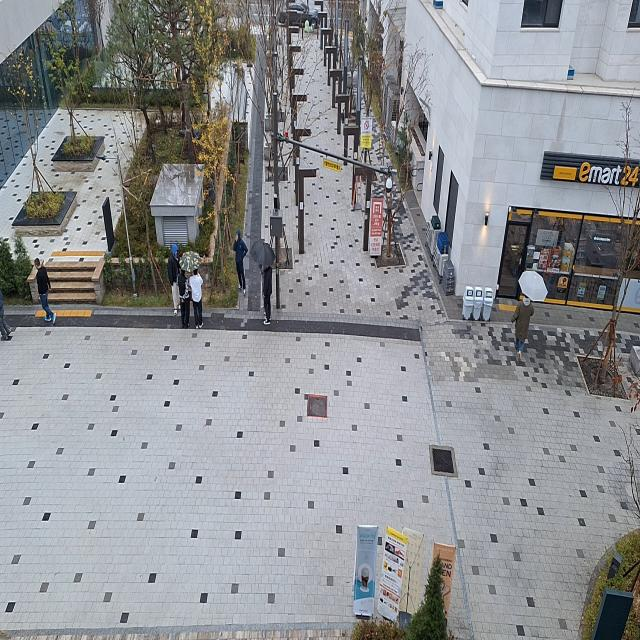Car: (271, 0, 327, 33)
